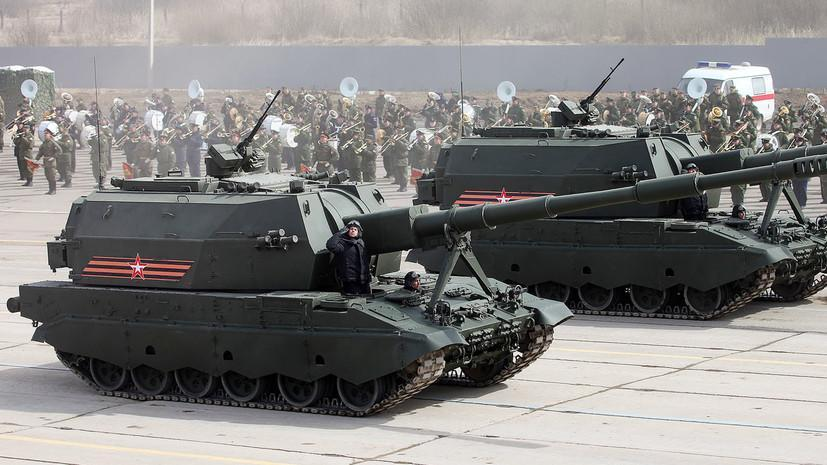sau: (35, 154, 827, 426), (422, 108, 827, 323)
